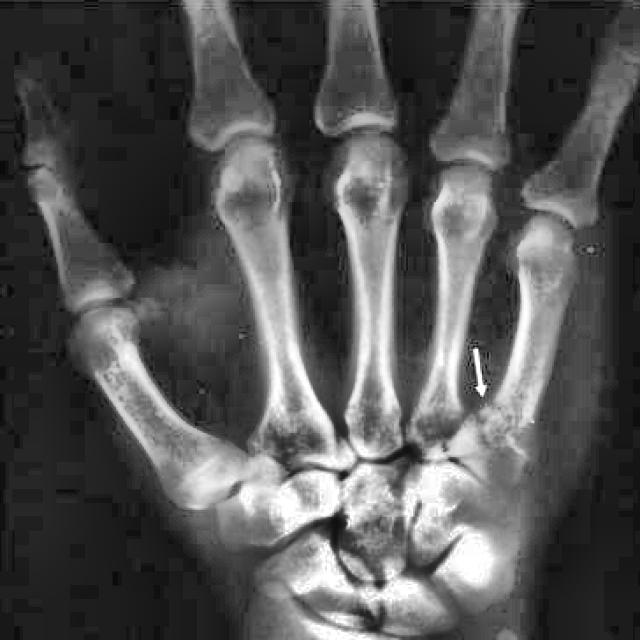fracture: (468, 408, 532, 466)
